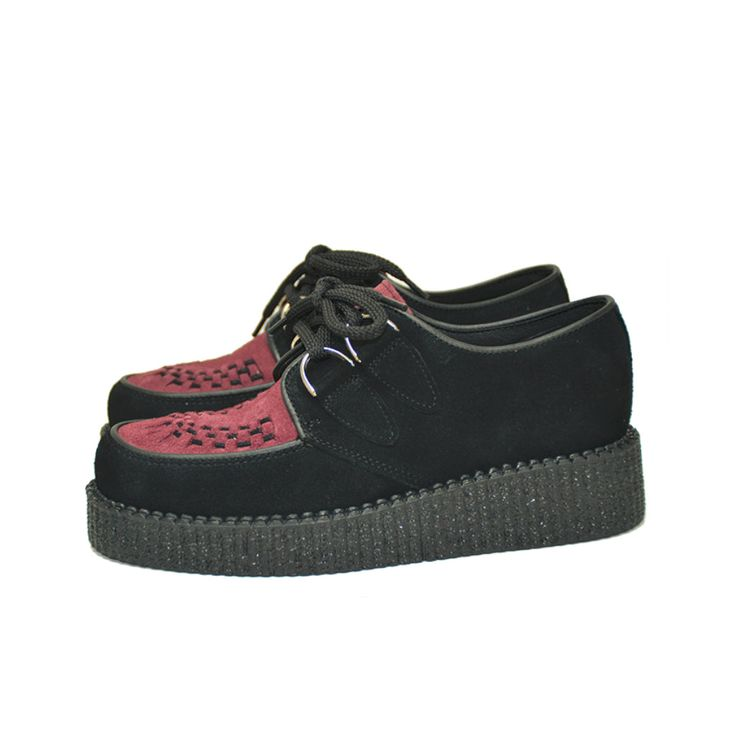gamuza: (94, 245, 634, 520)
